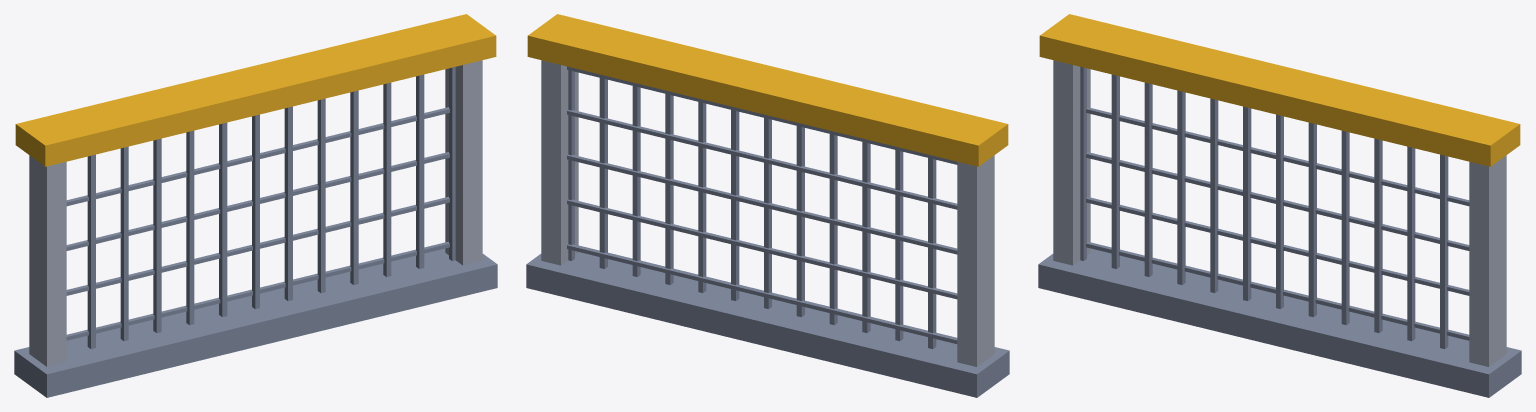
Rendered from fence_mesh.glb.
The picture shows the model from 3 angles, left to right: view 1: azimuth 30°, elevation 25°; view 2: azimuth 150°, elevation 25°; view 3: azimuth 330°, elevation 25°; orthographic projection.
Parts seen in each view (by area): view 1: fence_mesh; view 2: fence_mesh; view 3: fence_mesh.
Part boxes in pixels (x1,y1,x2,y2): fence_mesh: [14, 14, 497, 397]; fence_mesh: [526, 14, 1009, 397]; fence_mesh: [1038, 14, 1521, 397].
Bounding box in the file's own units: 2 × 1.06 × 0.25.
